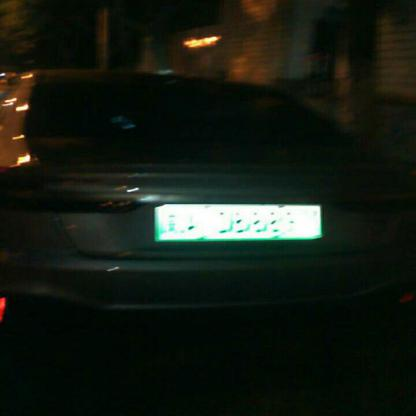lp: (154, 204, 322, 242)
